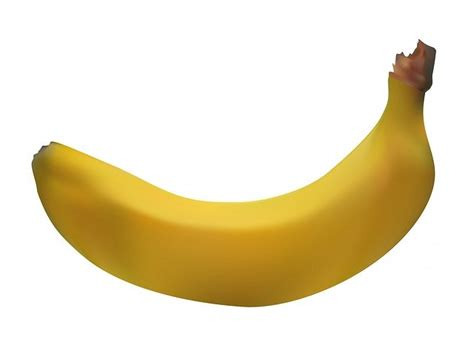banana: (30, 116, 440, 309)
